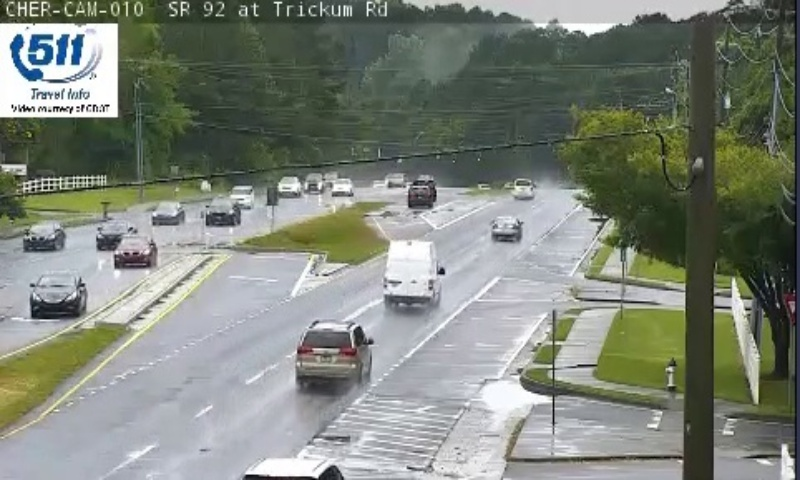car: (297, 321, 370, 378), (491, 214, 521, 240), (514, 180, 532, 200)
van: (386, 240, 438, 301)
